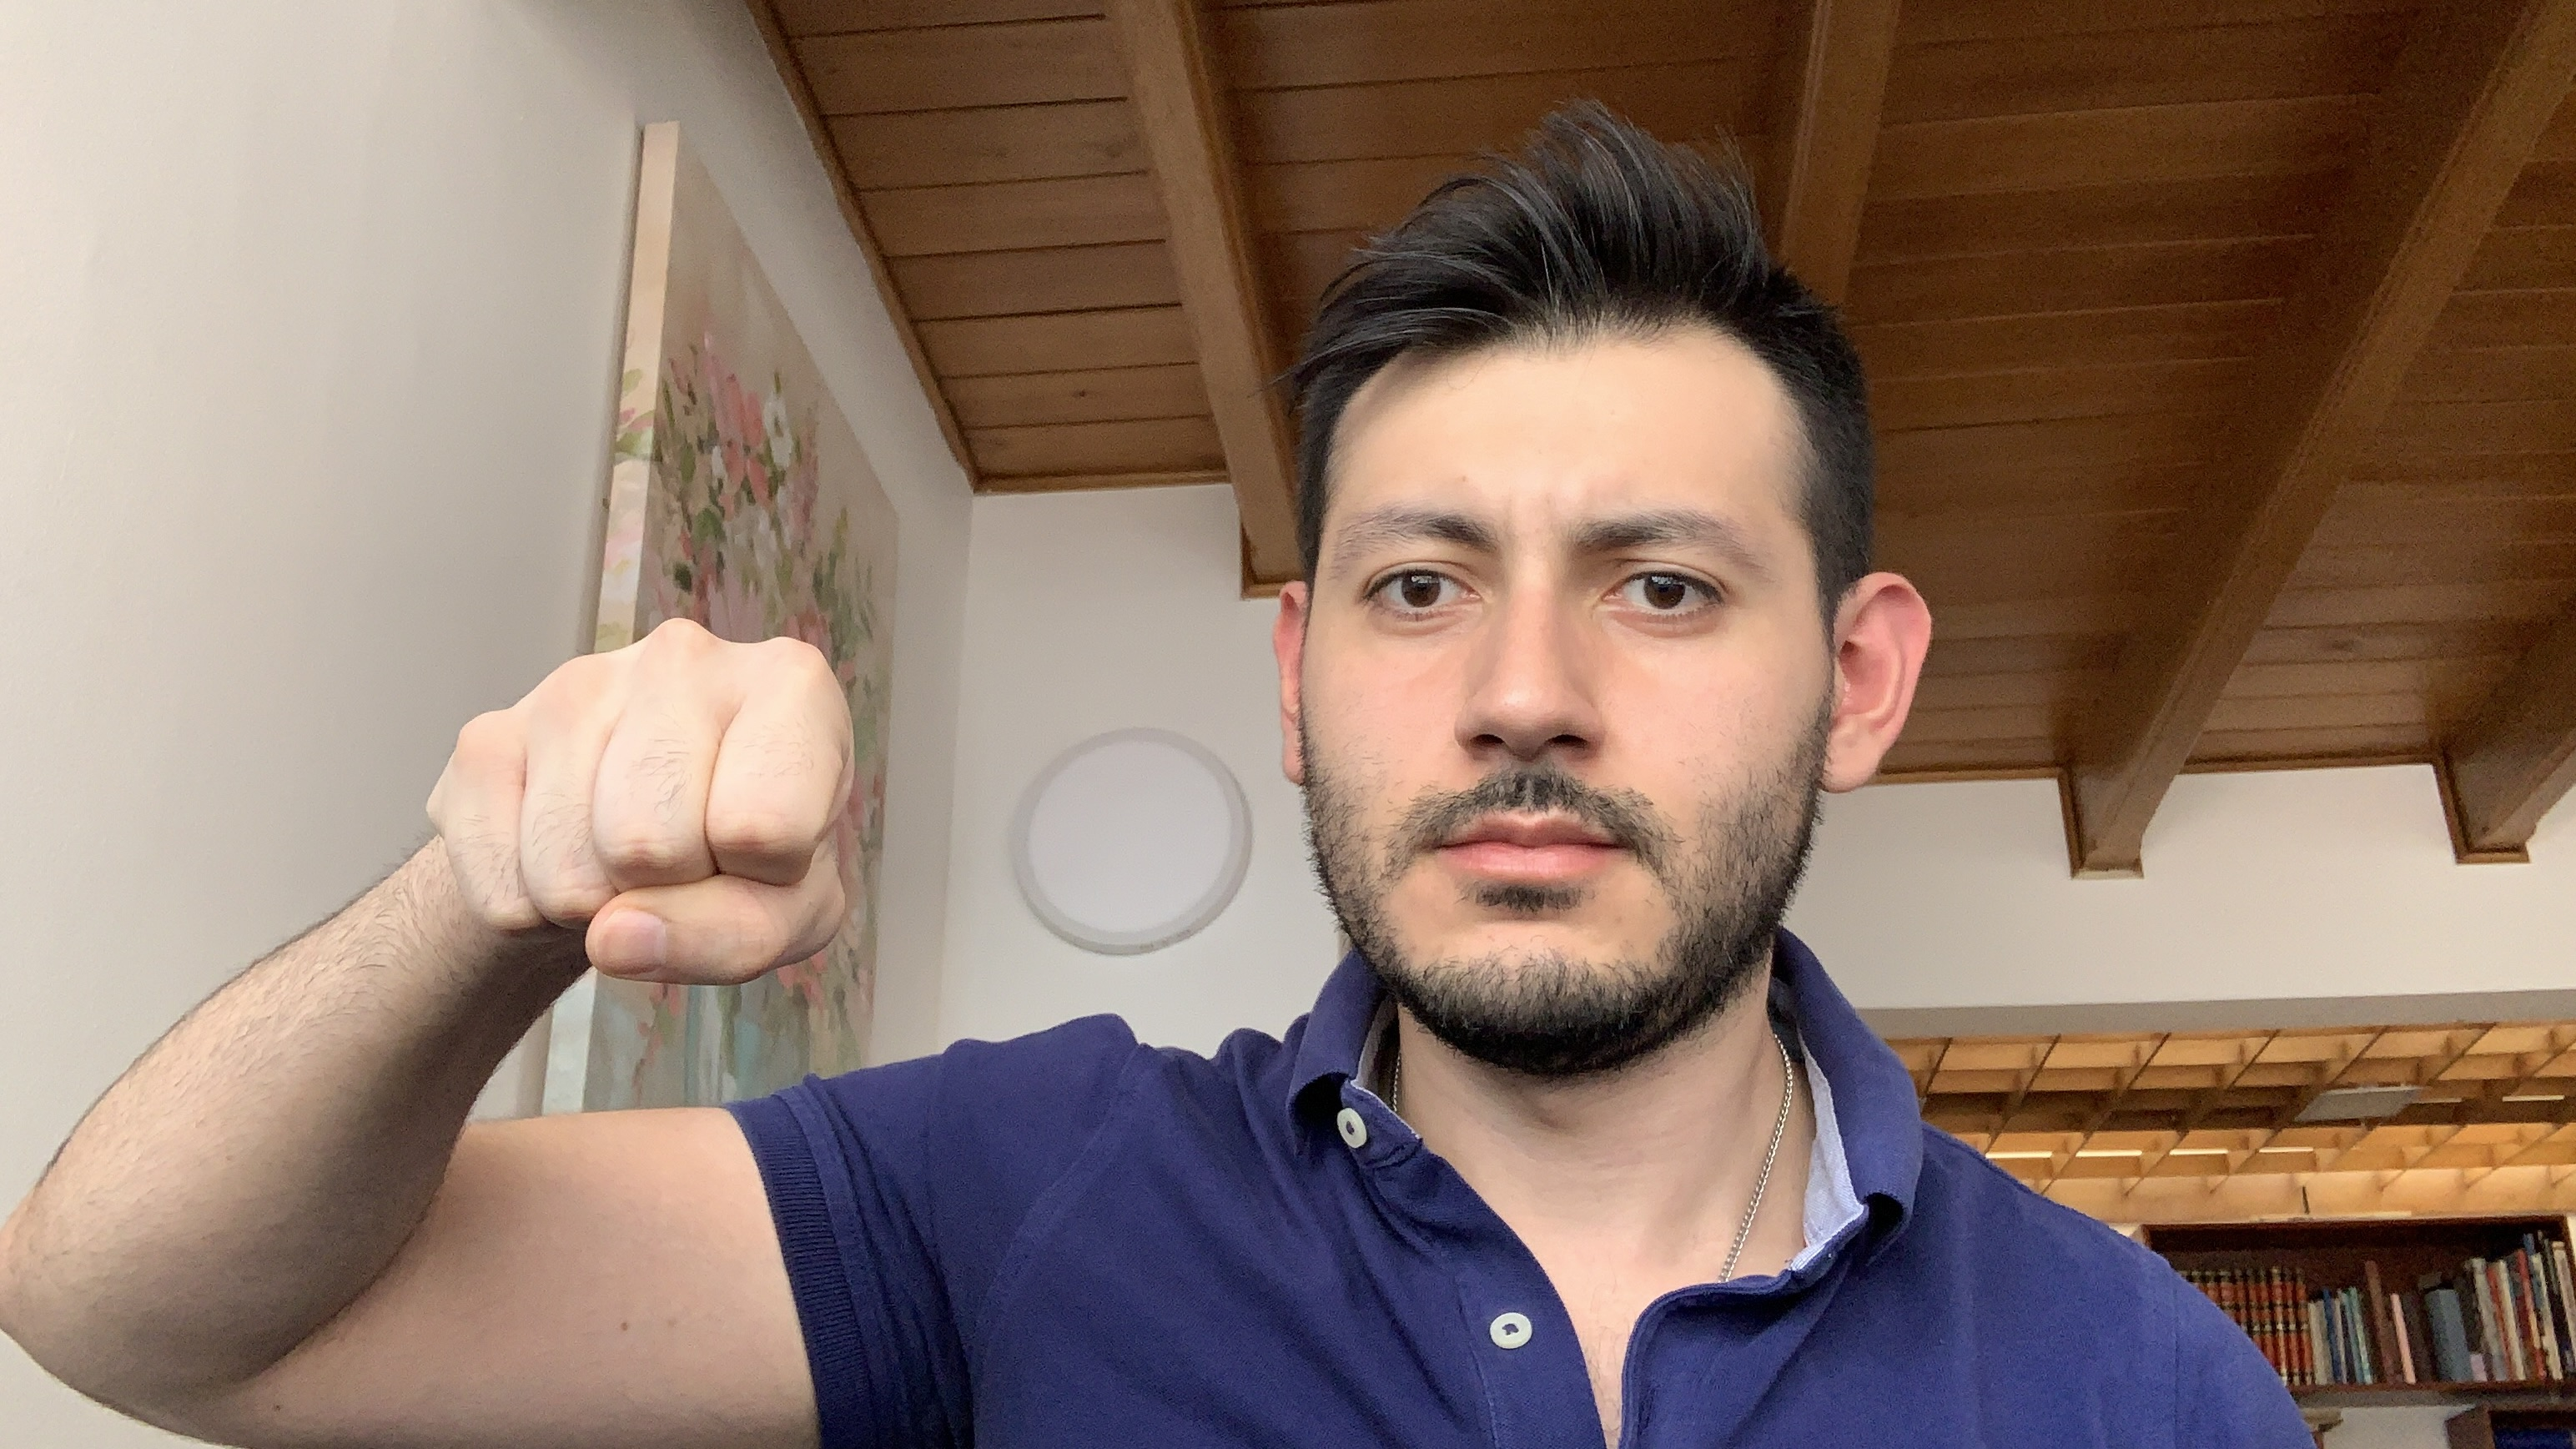Yes: (410, 607, 893, 998)
